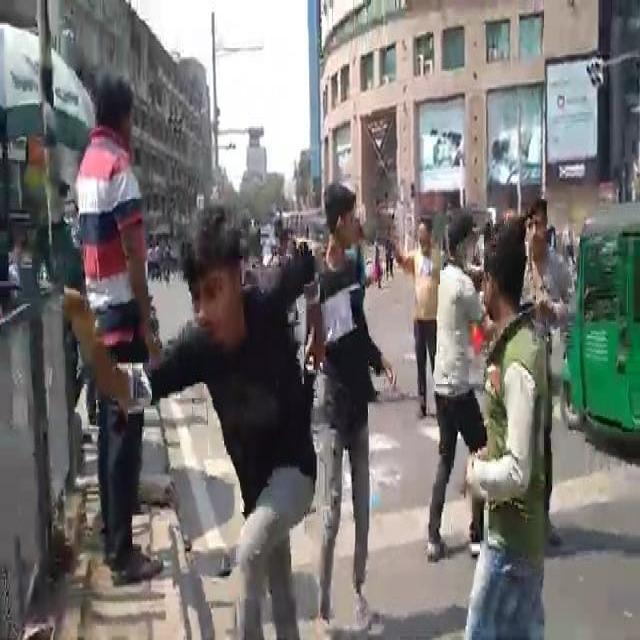fight: (166, 141, 394, 632)
